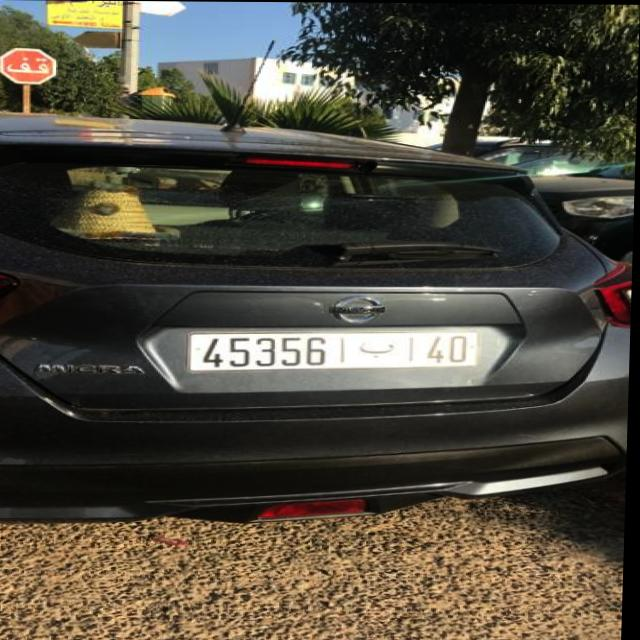License-Plate: (190, 329, 484, 371)
